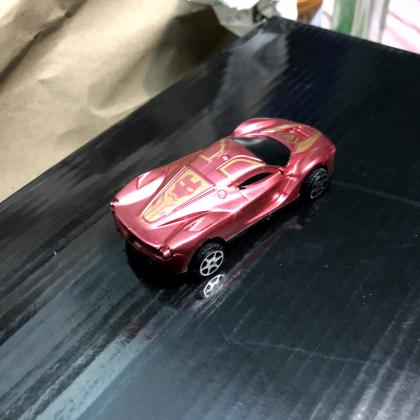Car: (110, 117, 336, 281)
